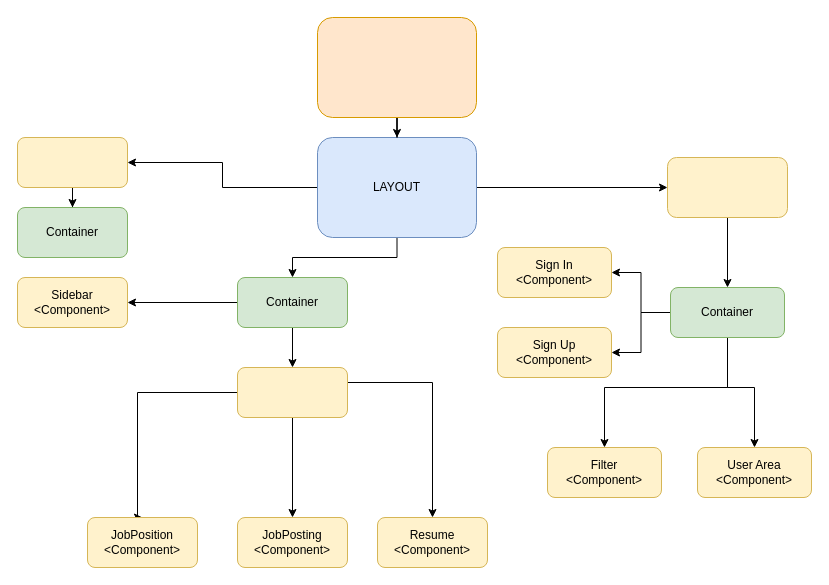
Some shapes in this 829 by 585 pixel diagram are drawn without their labels. Here are the shapes that lost their labels. From the top down, the centre of each, then its label:
the point at 396,67: HRMS APP
the point at 72,162: Footer <Component>
the point at 727,187: Navi <Component>
the point at 292,392: Dashboard <Component>
